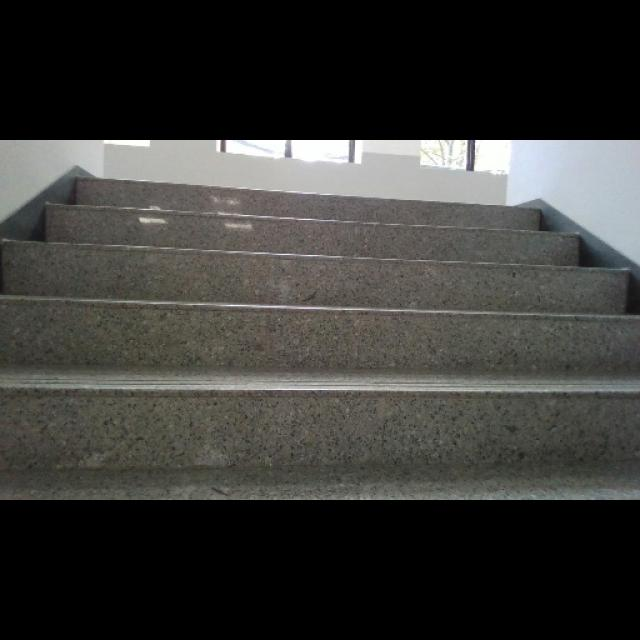Stairs: (0, 170, 639, 499)
